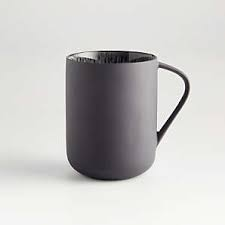cup: (61, 48, 196, 183)
